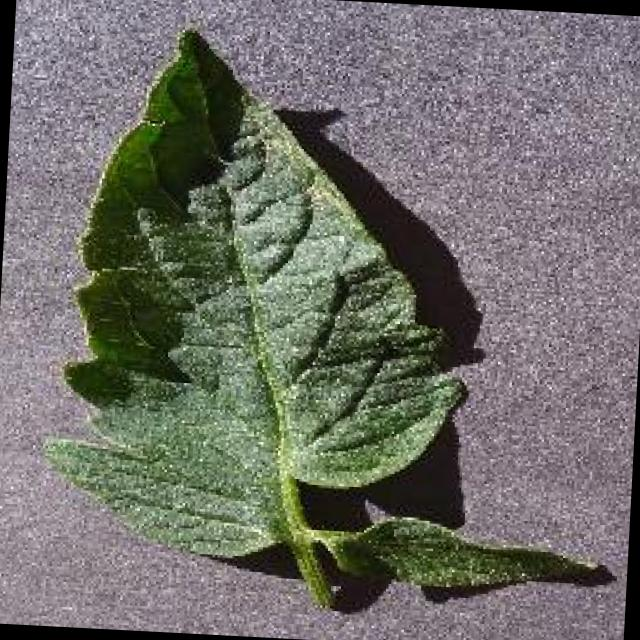Tomato_Healthy: (39, 9, 580, 598)
